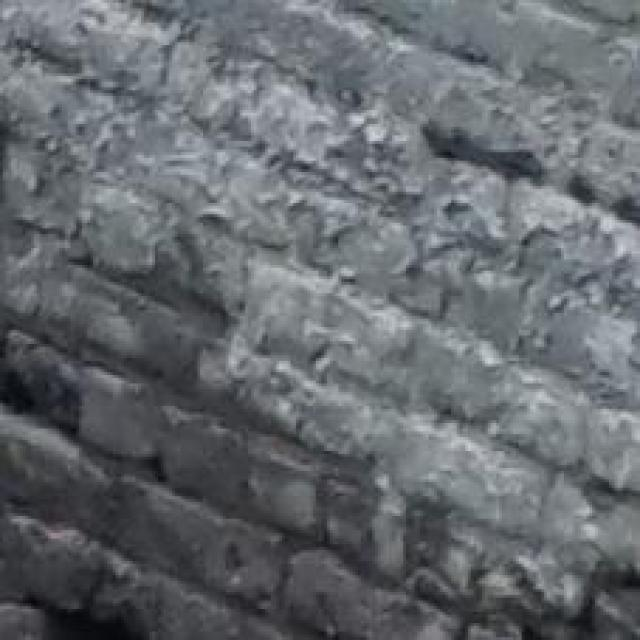Crack: (0, 366, 186, 640)
